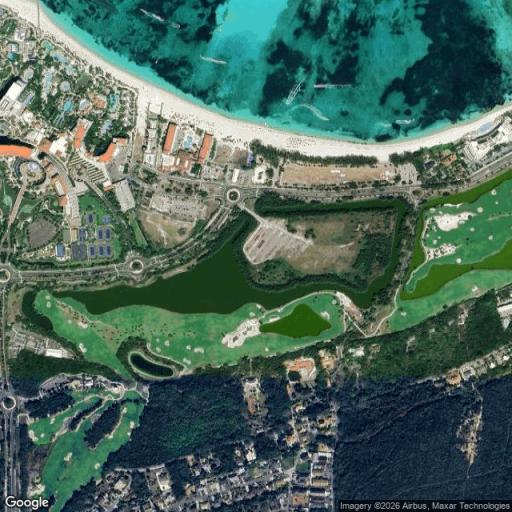ship: (286, 76, 306, 104), (300, 103, 328, 120), (140, 8, 164, 22), (200, 56, 227, 64), (314, 84, 357, 87), (396, 120, 413, 124), (172, 23, 180, 28)
